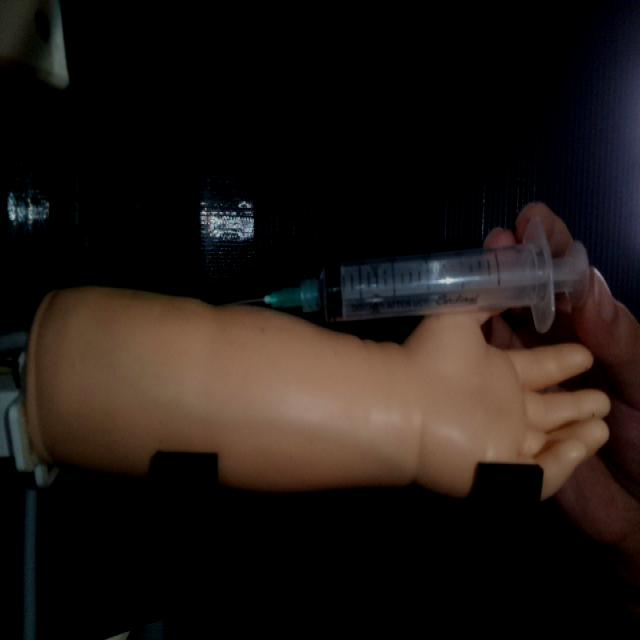Below 15 degrees: (230, 227, 592, 332)
